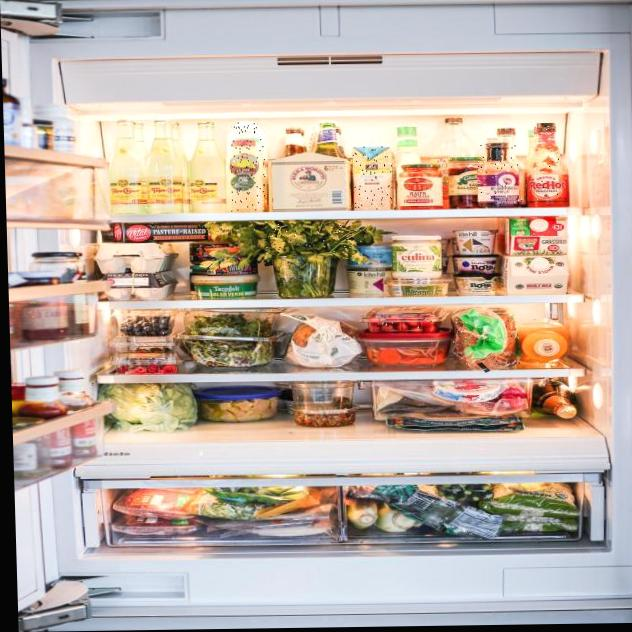blueberries: (124, 316, 166, 335)
bread: (451, 309, 520, 364)
milk: (229, 122, 266, 212), (353, 145, 395, 211)
parsley: (252, 221, 362, 257)
sauce: (528, 123, 569, 206), (477, 143, 523, 205)
tomato: (367, 324, 382, 333), (382, 322, 395, 332), (404, 316, 417, 325), (420, 318, 435, 325), (410, 326, 423, 332), (423, 325, 434, 332)
